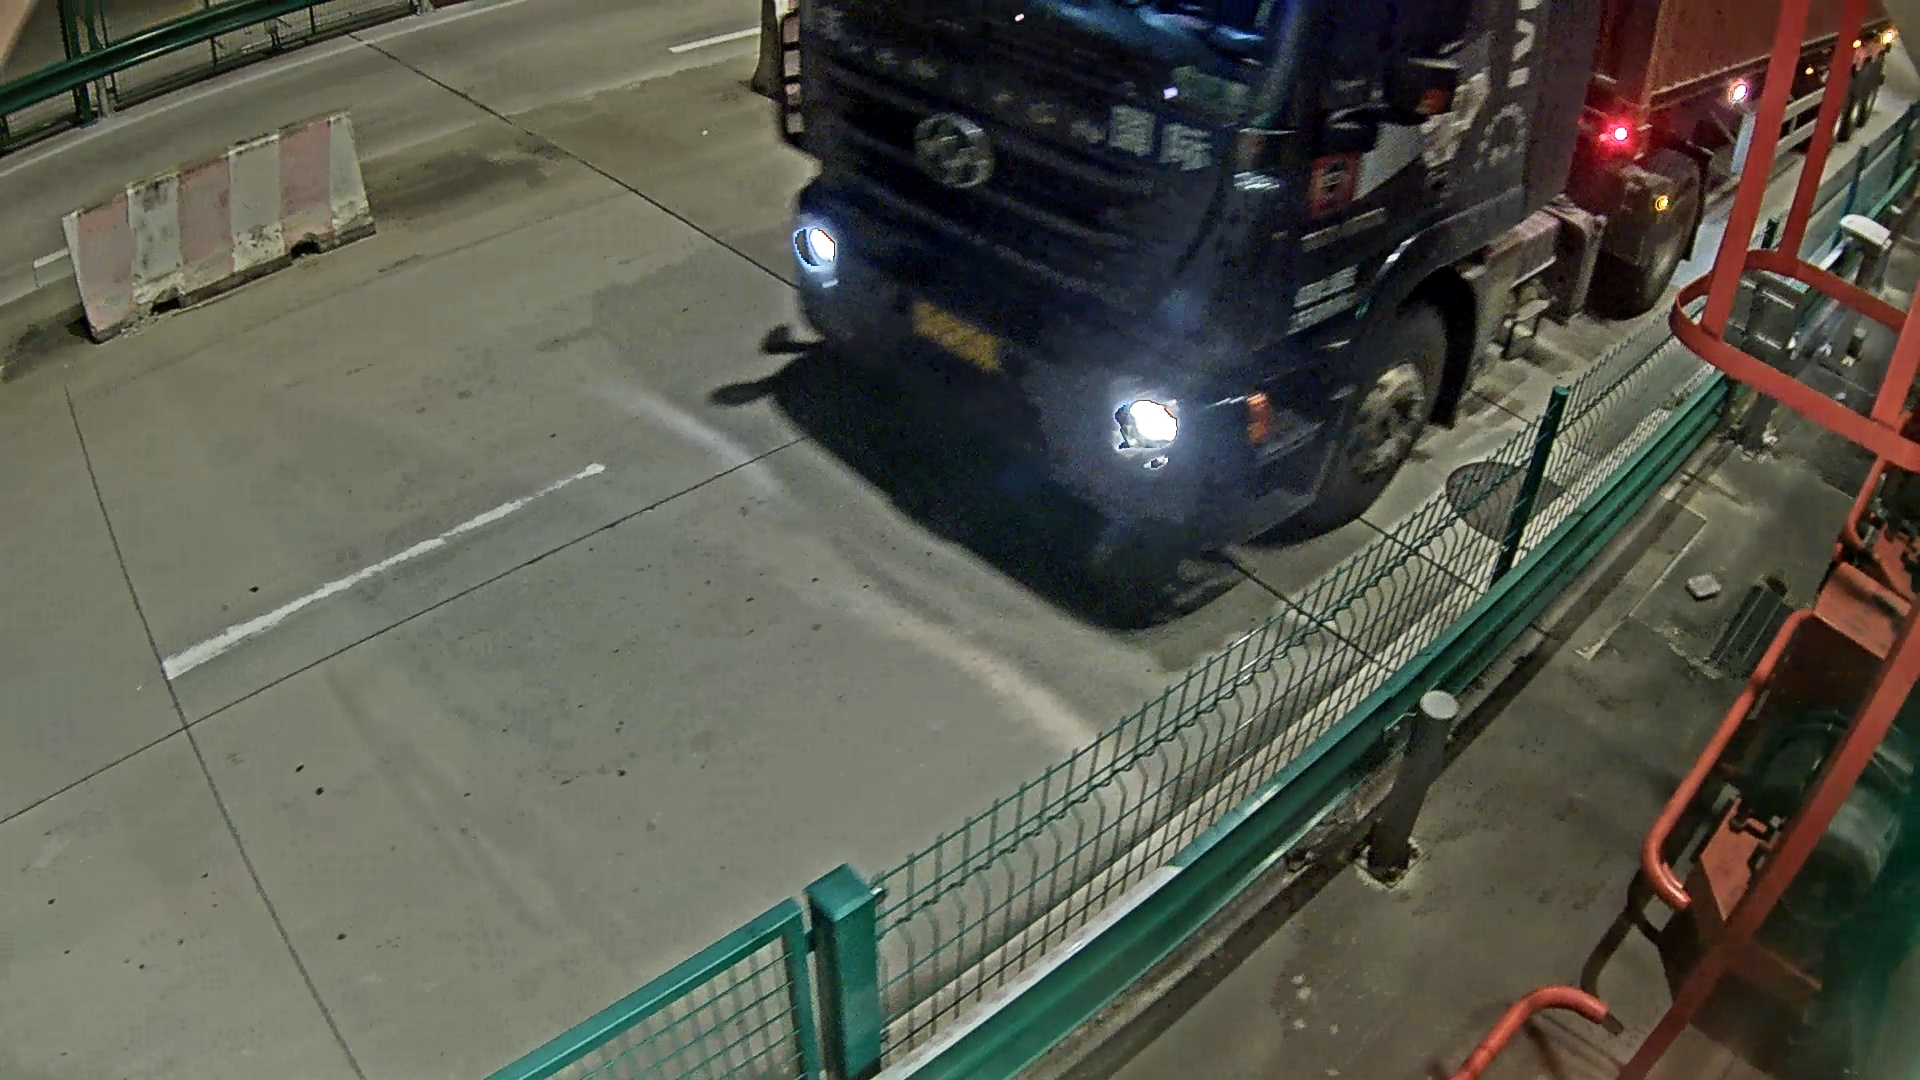head: (774, 19, 1395, 604)
plate: (914, 293, 1006, 368)
